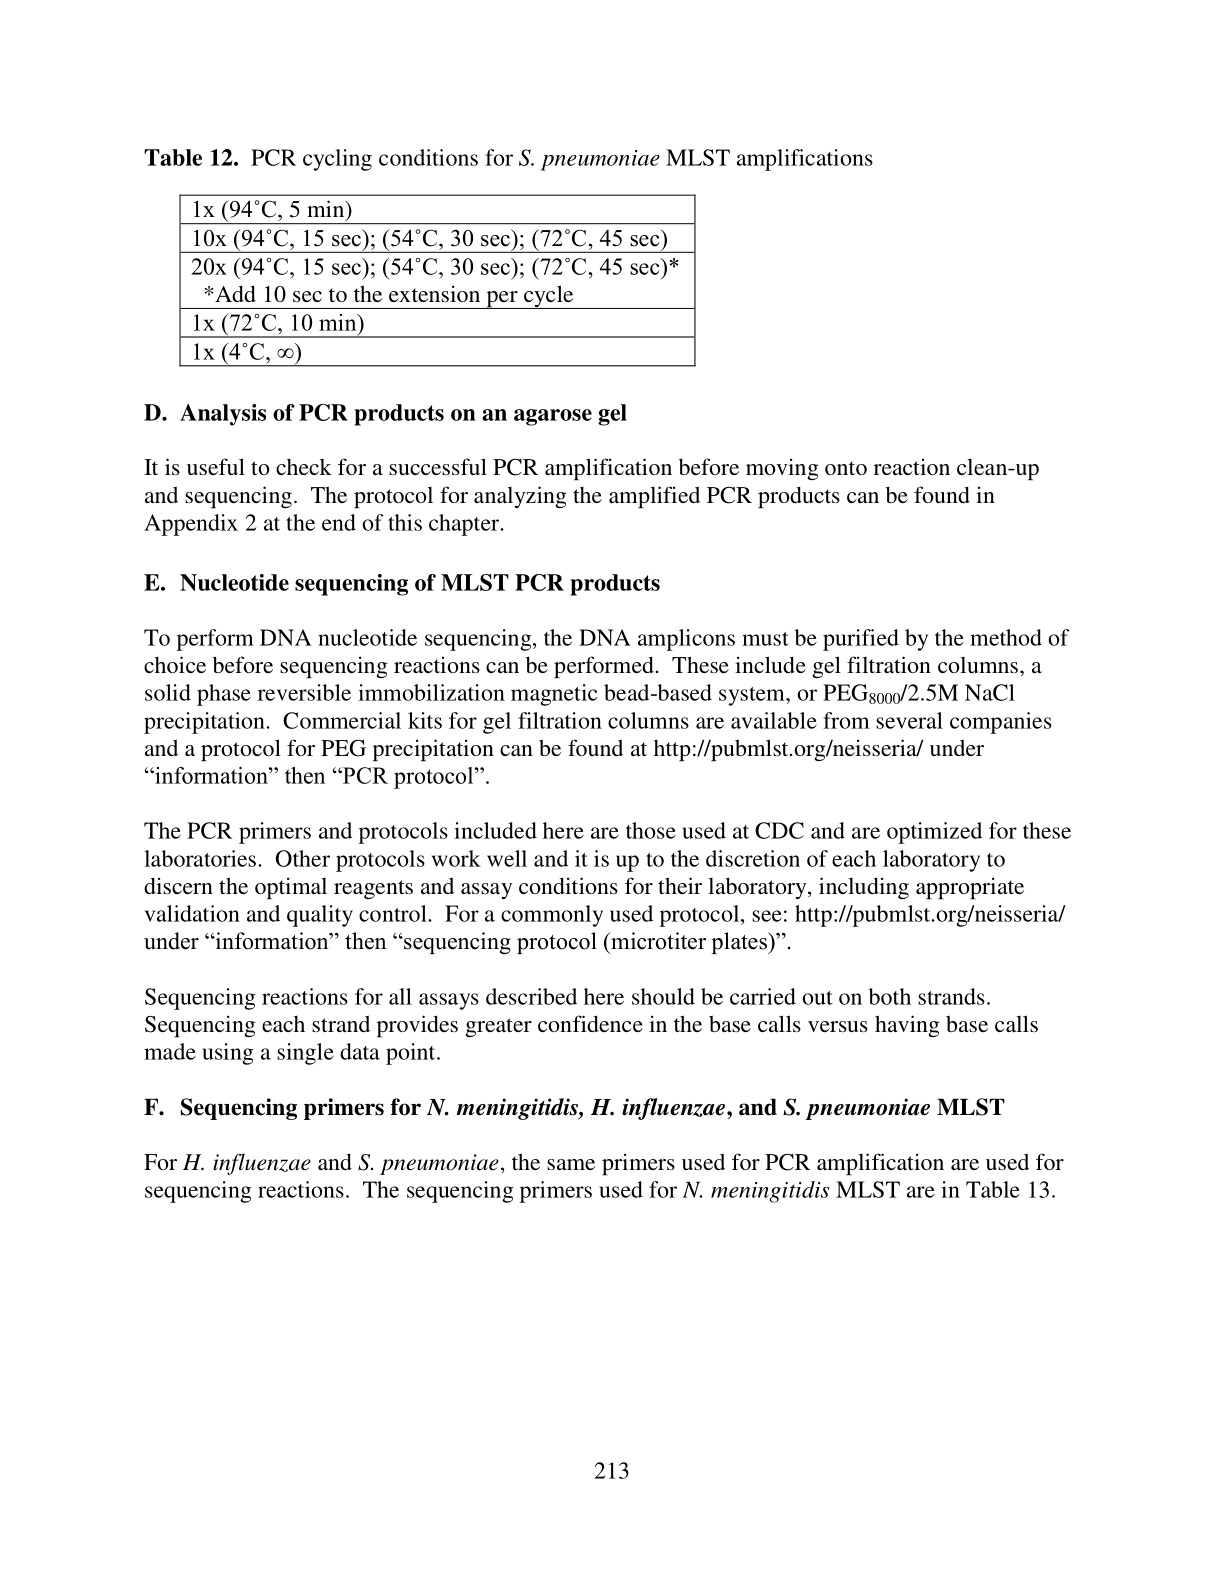full_lined: (179, 194, 696, 366)
